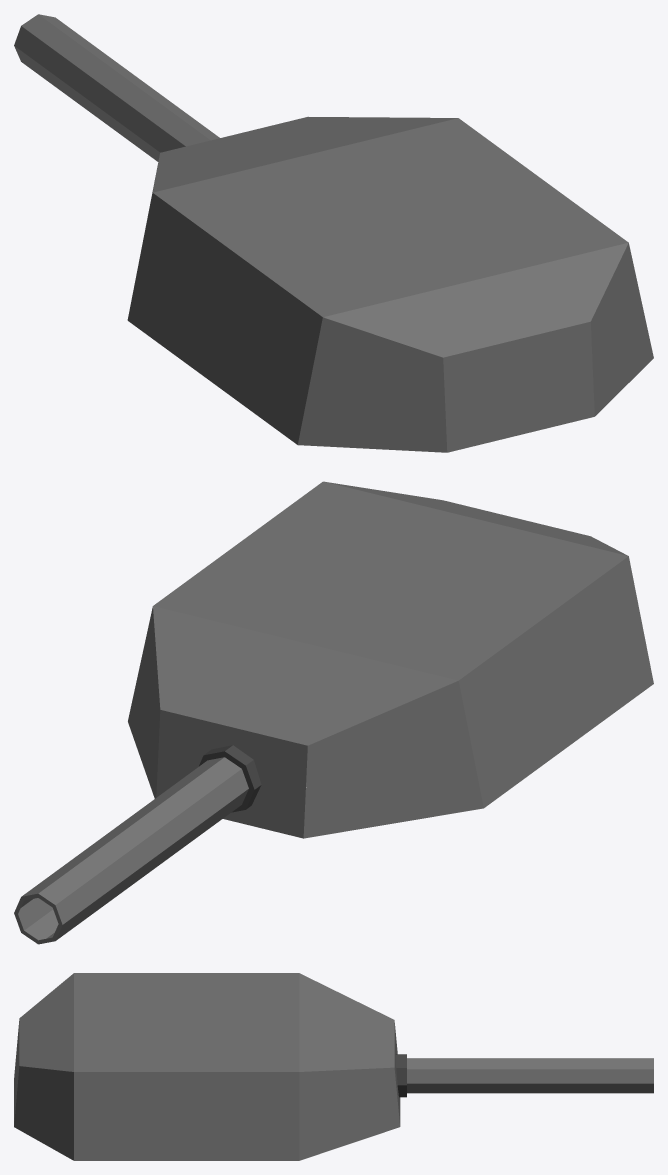
Rendered from DefaultTurret1.fbx.
3 renders of one model, top to bottom at view 1: azimuth 30°, elevation 25°; view 2: azimuth 150°, elevation 25°; view 3: azimuth 270°, elevation 25°, orthographic. The views are drawn at different scales.
Visible parts, largest first — view 1: Cube.001; view 2: Cube.001; view 3: Cube.001.
Part boxes in pixels (x1=…): Cube.001: x1=14, y1=14, x2=653, y2=452; Cube.001: x1=14, y1=481, x2=653, y2=944; Cube.001: x1=14, y1=973, x2=653, y2=1160.
Size of the model in its own units: 146 by 47.83 by 344.
1 material, 1 textured.
